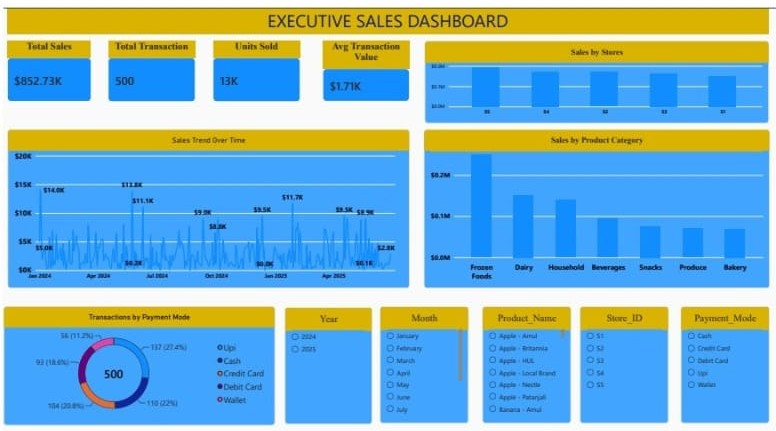

Layout of this report page (visuals, bound fields, positions):
{"tool":"powerbi","page":{"name":"Executive Sales Dashboard","canvas":[1920,1080],"ordinal":0},"visuals":[{"type":"textbox","box":[10,0,1871.7,63.3],"z":0},{"type":"cardVisual","title":"Total Sales","fields":{"Data":["Measures Table.Total Sales"]},"box":[9.2,80.7,205.4,148.6],"z":1000},{"type":"lineChart","title":"Sales Trend Over Time","fields":{"Category":["Date.Date"],"Y":["Measures Table.Total Sales"]},"box":[0,270.3,989,465.7],"z":2000},{"type":"cardVisual","title":"Total Transaction ","fields":{"Data":["Measures Table.Total Transactions"]},"box":[258.3,80,213.3,150],"z":3000},{"type":"cardVisual","title":"Units Sold","fields":{"Data":["Measures Table.Total Quantity Sold"]},"box":[515,80,213.3,150],"z":4000},{"type":"cardVisual","title":"Avg Transaction Value","fields":{"Data":["Measures Table.Average Transaction Value"]},"box":[785.1,80.7,212.8,148.6],"z":5000},{"type":"clusteredColumnChart","title":"Sales by Product Category","fields":{"Category":["Product.Product_Category"],"Y":["Measures Table.Total Sales"]},"box":[1034.3,345.3,851.1,390.7],"z":6000},{"type":"clusteredColumnChart","title":"Sales by Stores","fields":{"Category":["Store.Store_ID"],"Y":["Measures Table.Total Sales"]},"box":[1034.3,80.2,847.7,247.7],"z":7000},{"type":"donutChart","title":"Transactions by Payment Mode","fields":{"Category":["Payment.Payment_Mode"],"Y":["Measures Table.Total Transactions"]},"box":[0,760.5,668,266.9],"z":8000},{"type":"listSlicer","fields":{"Values":["Date.Year"]},"box":[690.7,760.5,216.3,263.4],"z":9000},{"type":"listSlicer","fields":{"Values":["Date.Month"]},"box":[926.2,760.5,218,261.6],"z":10000},{"type":"listSlicer","fields":{"Values":["Product.Product_Name"]},"box":[1177.3,760.5,218,261.6],"z":11000},{"type":"listSlicer","fields":{"Values":["Payment.Payment_Mode"]},"box":[1665.7,760.5,218,261.6],"z":12000},{"type":"listSlicer","fields":{"Values":["Store.Store_ID"]},"box":[1418,760.5,218,261.6],"z":13000}]}

Visuals, with their boxes in screenshot pixels (x1, y1, x2, y2), scaled from the page's 1920x1080 canvas onto the 776x431 screenshot:
textbox: bbox=[4, 0, 761, 25]
"Total Sales" cardVisual: bbox=[4, 32, 87, 92]
"Sales Trend Over Time" lineChart: bbox=[0, 108, 400, 294]
"Total Transaction " cardVisual: bbox=[104, 32, 191, 92]
"Units Sold" cardVisual: bbox=[208, 32, 294, 92]
"Avg Transaction Value" cardVisual: bbox=[317, 32, 403, 92]
"Sales by Product Category" clusteredColumnChart: bbox=[418, 138, 762, 294]
"Sales by Stores" clusteredColumnChart: bbox=[418, 32, 761, 131]
"Transactions by Payment Mode" donutChart: bbox=[0, 303, 270, 410]
listSlicer - Date.Year: bbox=[279, 303, 367, 409]
listSlicer - Date.Month: bbox=[374, 303, 462, 408]
listSlicer - Product.Product_Name: bbox=[476, 303, 564, 408]
listSlicer - Payment.Payment_Mode: bbox=[673, 303, 761, 408]
listSlicer - Store.Store_ID: bbox=[573, 303, 661, 408]
